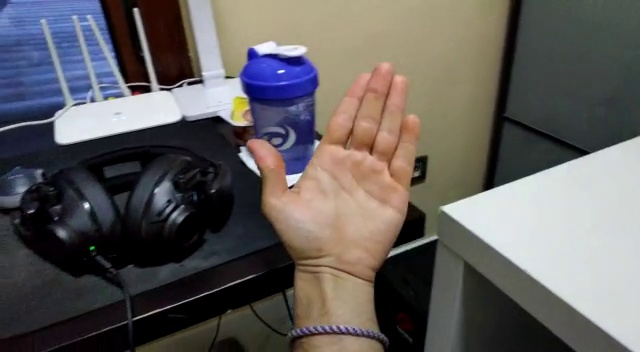Palm: (246, 58, 423, 289)
